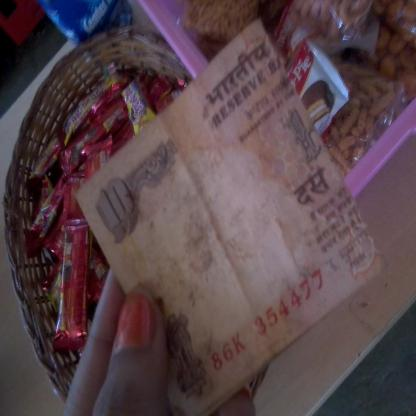Old10Front: (74, 19, 385, 416)
